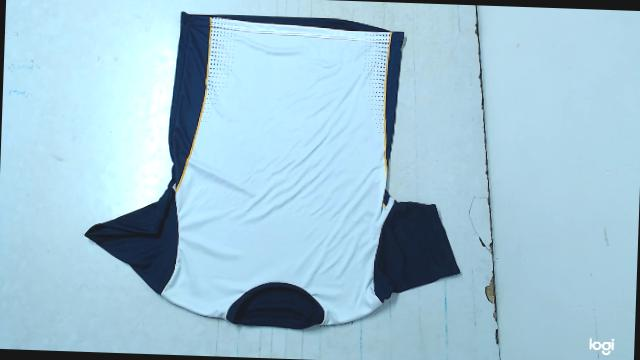new-garment: (86, 13, 458, 329)
